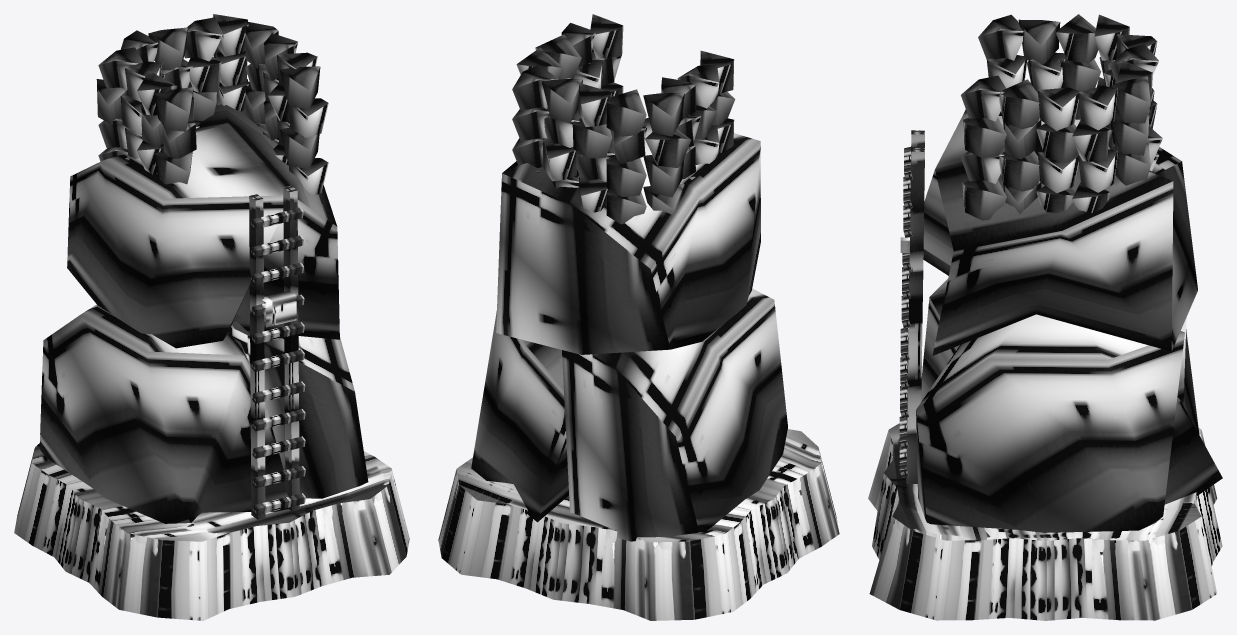
Rendered from wood_tower.dae.
3 renders of one model, left to right at view 1: azimuth 30°, elevation 25°; view 2: azimuth 150°, elevation 25°; view 3: azimuth 270°, elevation 25°, orthographic. The views are drawn at different scales.
Visible parts, largest first — view 1: wood_stone; view 2: wood_stone; view 3: wood_stone.
Part boxes in pixels (x1,y1,x2,y2): wood_stone: (14,14,409,620); wood_stone: (438,14,839,620); wood_stone: (868,14,1222,620).
Size of the model in its own units: 8.2 by 8.23 by 12.69.
